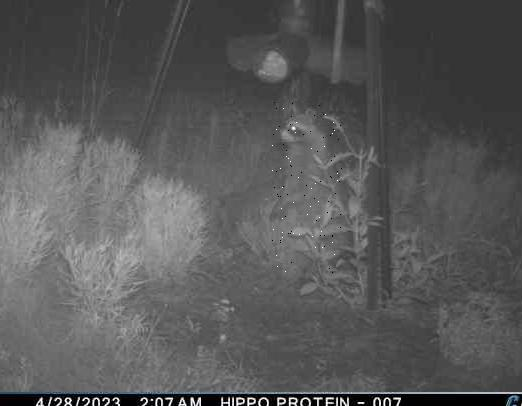Raccoon: (273, 102, 343, 276)
